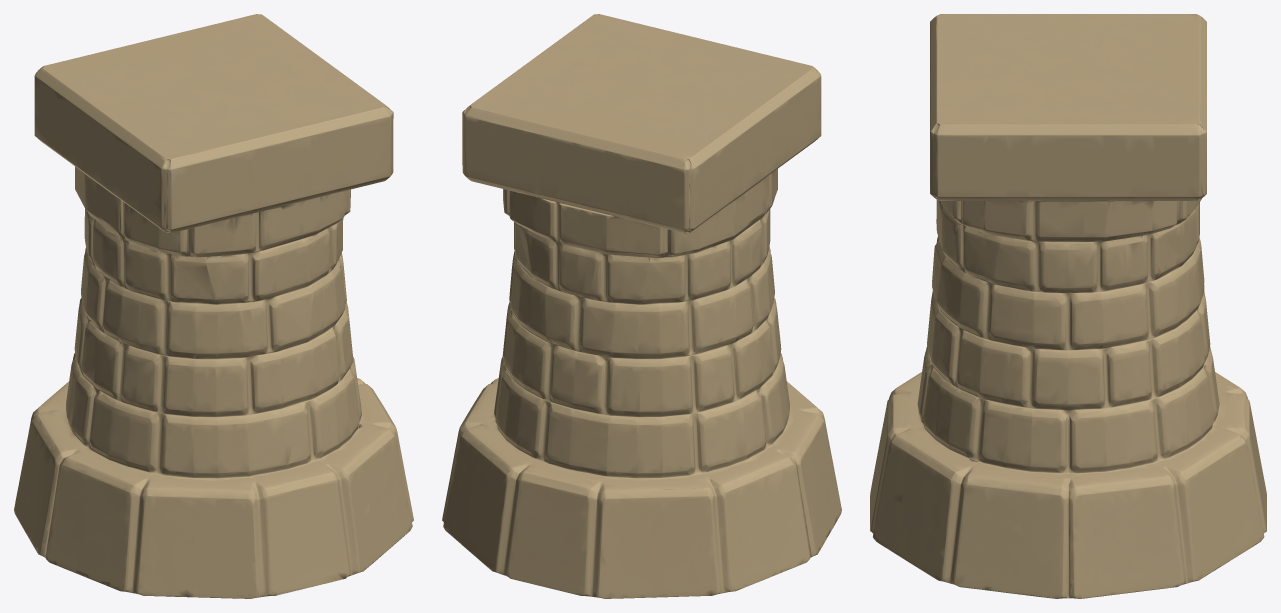
Rendered from tour.fbx.
The picture shows the model from 3 angles, left to right: view 1: azimuth 30°, elevation 25°; view 2: azimuth 150°, elevation 25°; view 3: azimuth 270°, elevation 25°; orthographic projection. The views are drawn at different scales.
Parts seen in each view (by area): view 1: material; view 2: material; view 3: material.
Boxes of the visible parts, left/top/right/bottom form: material: left=14, top=14, right=413, bottom=598; material: left=442, top=14, right=841, bottom=598; material: left=870, top=14, right=1266, bottom=598.
Size of the model in its own units: 76.62 by 92.29 by 74.61.
Materials: 1 (1 with a texture image).
